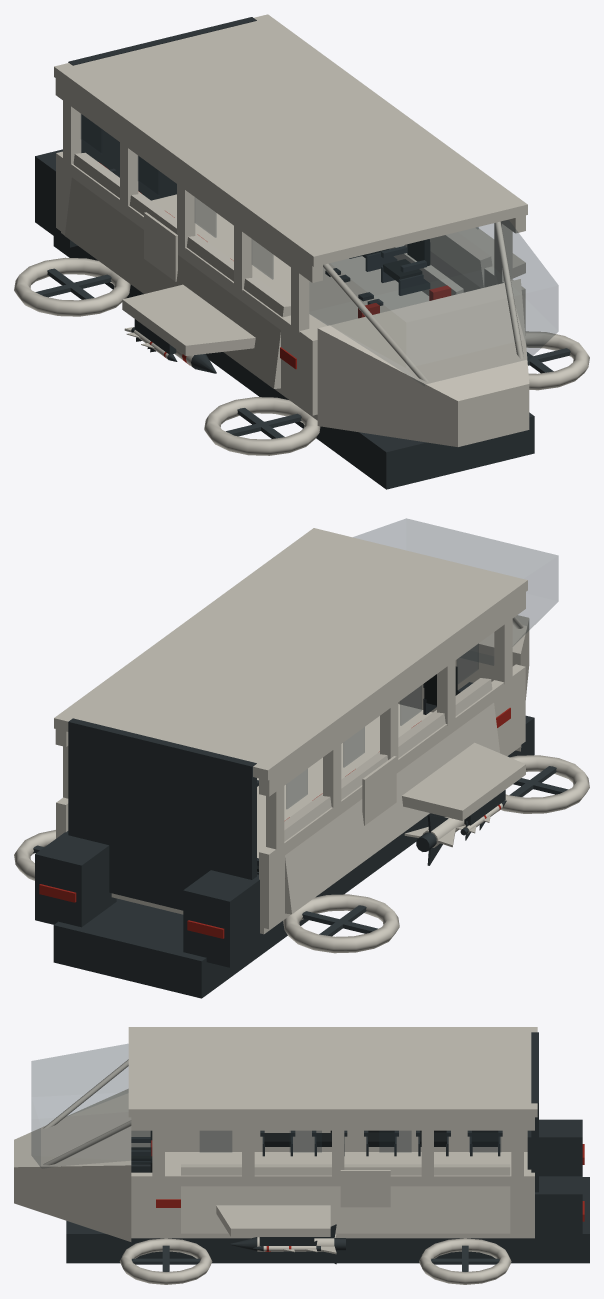
The picture shows the model from 3 angles, top to bottom: view 1: azimuth 30°, elevation 25°; view 2: azimuth 150°, elevation 25°; view 3: azimuth 270°, elevation 25°; orthographic projection. The views are drawn at different scales.
Visible parts, largest first — view 1: hover-transport-painted, transport-roof-painted, hover-transport-glazing, transport-ramp-painted, crew-seating-batch-painted, rotor-lift--1-2.9-fleet-machine, rotor-lift--1--3.1-fleet-machine; view 2: hover-transport-painted, transport-roof-painted, transport-ramp-painted, hover-transport-glazing, store-hover-large--1-painted, rotor-lift--1--3.1-fleet-machine, rotor-lift--1-2.9-fleet-machine, crew-seating-batch-painted; view 3: hover-transport-painted, transport-roof-painted, hover-transport-glazing, crew-seating-batch-painted, transport-ramp-painted, store-hover-large-1-painted, rotor-lift-1-2.9-fleet-machine, rotor-lift-1--3.1-fleet-machine.
Boxes of the visible parts, x1,y1,x2,y2 form: hover-transport-painted: (14, 149, 589, 489); transport-roof-painted: (54, 14, 527, 332); hover-transport-glazing: (81, 114, 558, 385); transport-ramp-painted: (68, 17, 256, 200); crew-seating-batch-painted: (99, 162, 451, 318); rotor-lift--1-2.9-fleet-machine: (226, 408, 301, 438); rotor-lift--1--3.1-fleet-machine: (35, 268, 111, 299); hover-transport-painted: (14, 615, 589, 998); transport-roof-painted: (54, 528, 527, 850); transport-ramp-painted: (68, 718, 256, 910); hover-transport-glazing: (286, 518, 558, 808); store-hover-large--1-painted: (404, 815, 465, 865); rotor-lift--1--3.1-fleet-machine: (302, 905, 377, 936); rotor-lift--1-2.9-fleet-machine: (509, 766, 568, 796); crew-seating-batch-painted: (257, 666, 472, 874); hover-transport-painted: (14, 1059, 589, 1284); transport-roof-painted: (128, 1027, 537, 1177); hover-transport-glazing: (31, 1044, 500, 1168); crew-seating-batch-painted: (131, 1130, 502, 1172); transport-ramp-painted: (531, 1032, 538, 1192); store-hover-large-1-painted: (230, 1224, 345, 1264); rotor-lift-1-2.9-fleet-machine: (132, 1245, 200, 1271); rotor-lift-1--3.1-fleet-machine: (431, 1245, 499, 1271).
Size of the model in its own units: 36.97 by 20.23 by 63.16.
